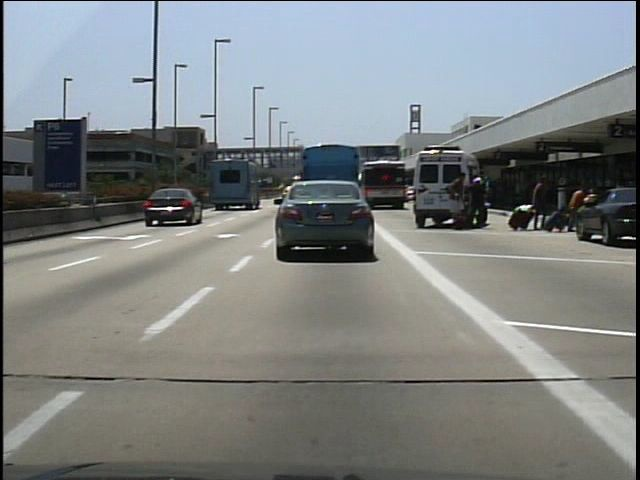person: (530, 171, 555, 237), (445, 168, 469, 232), (467, 174, 490, 230), (569, 181, 586, 215)
